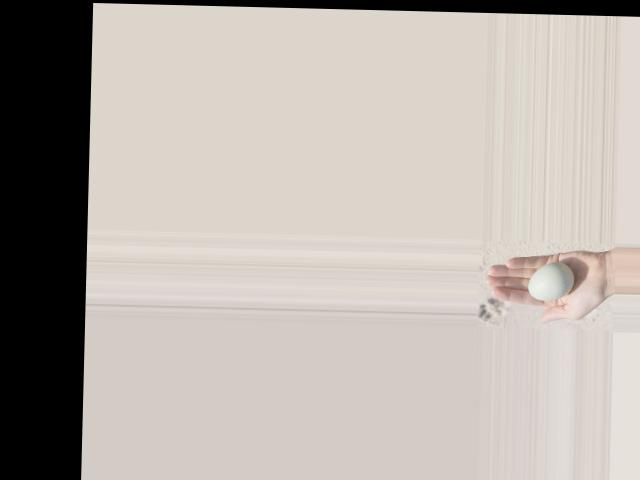egg: (528, 261, 573, 300)
